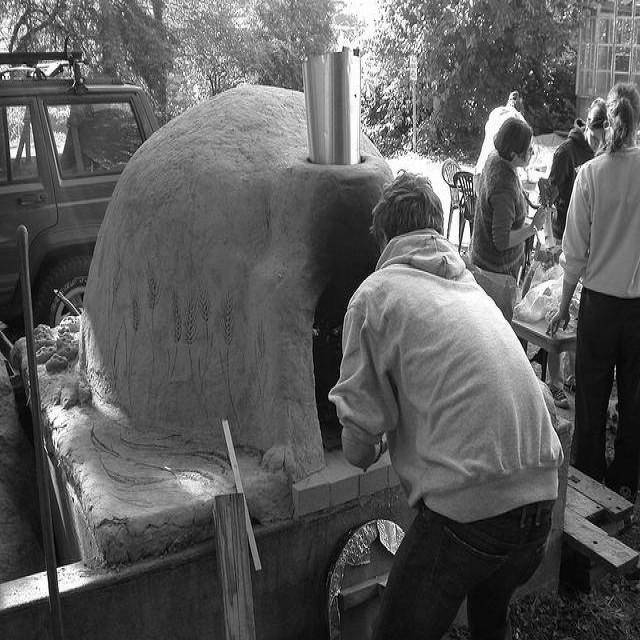vehicle: (0, 54, 161, 318)
